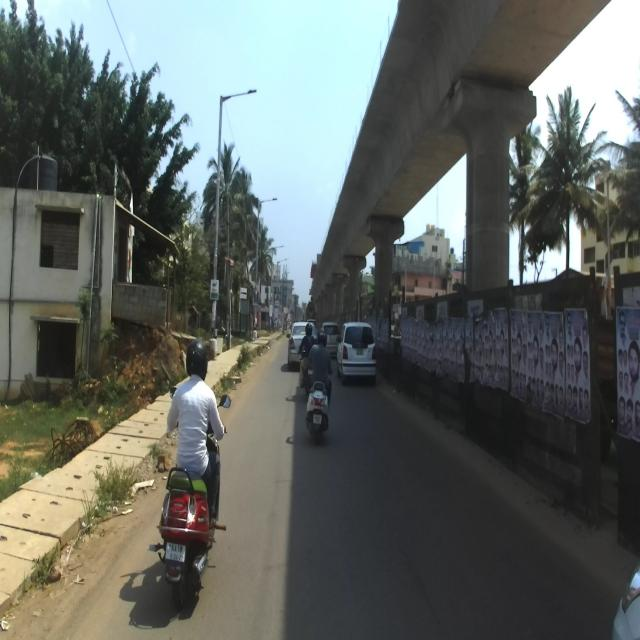Car_Hyundai: (335, 322, 377, 386)
scooter: (148, 382, 230, 612), (304, 365, 334, 444)
